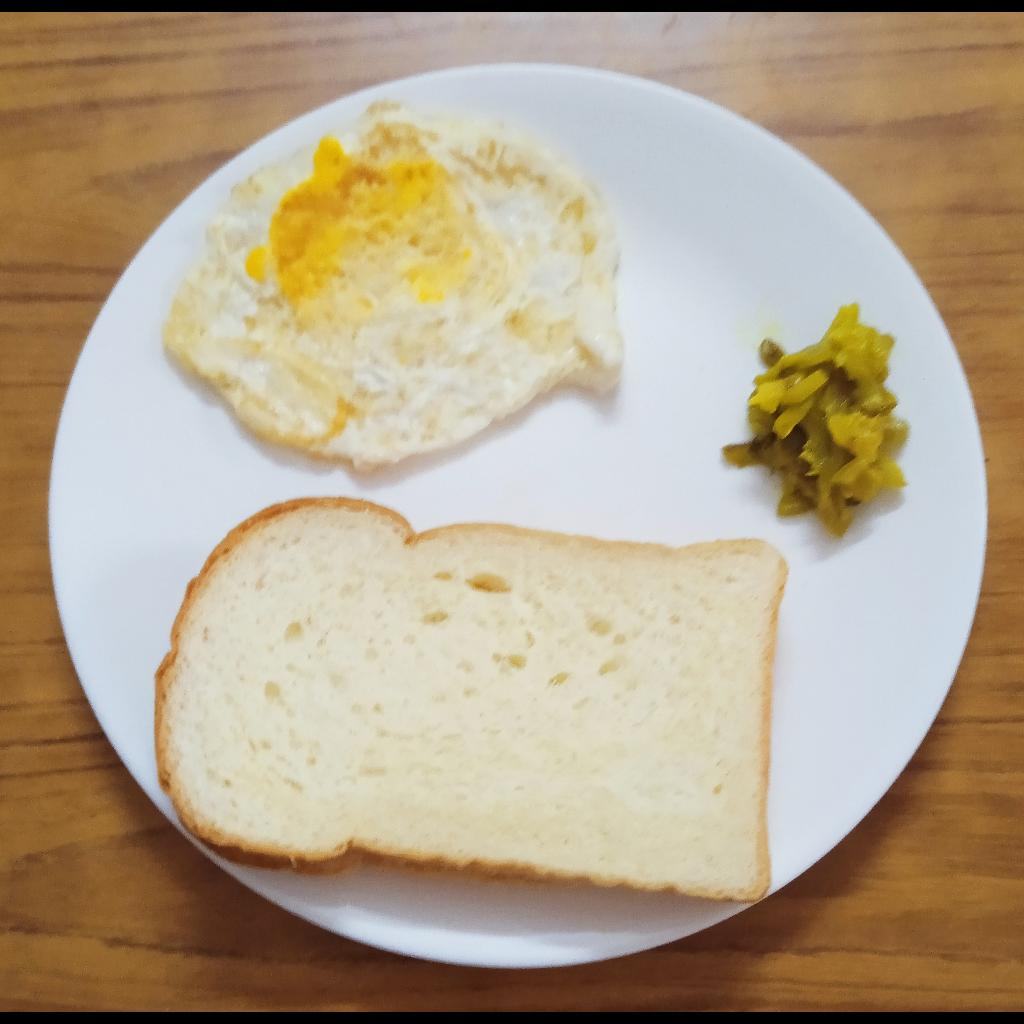bread: (150, 495, 796, 905)
egg-poached: (157, 86, 629, 469)
vegetable: (724, 302, 915, 535)
